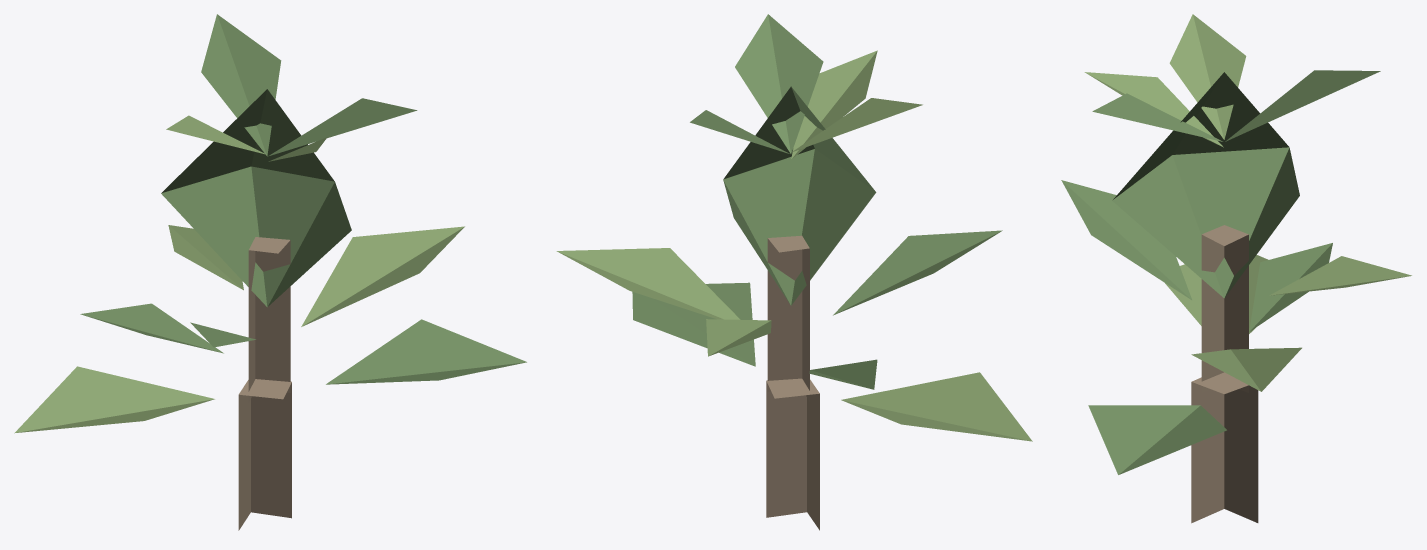
Rendered from hua.mei@seedling__summer.glb.
3 views of the same model, side by side, from view 1: azimuth 30°, elevation 25°; view 2: azimuth 150°, elevation 25°; view 3: azimuth 270°, elevation 25° (orthographic). The views are drawn at different scales.
Parts seen in each view (by area): view 1: hua.mei@seedling__summer; view 2: hua.mei@seedling__summer; view 3: hua.mei@seedling__summer.
Part boxes in pixels (x1=…): hua.mei@seedling__summer: x1=14, y1=14, x2=526, y2=530; hua.mei@seedling__summer: x1=556, y1=14, x2=1032, y2=530; hua.mei@seedling__summer: x1=1061, y1=14, x2=1411, y2=523.
Size of the model in its own units: 0.3765 by 0.3489 by 0.239.
